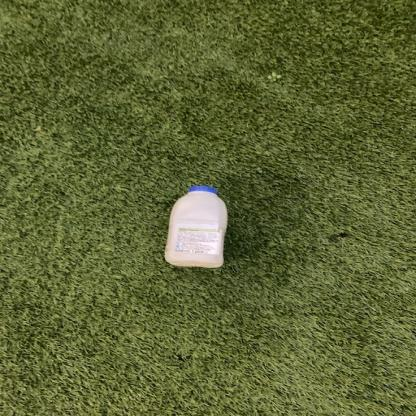trash: (161, 184, 234, 273)
